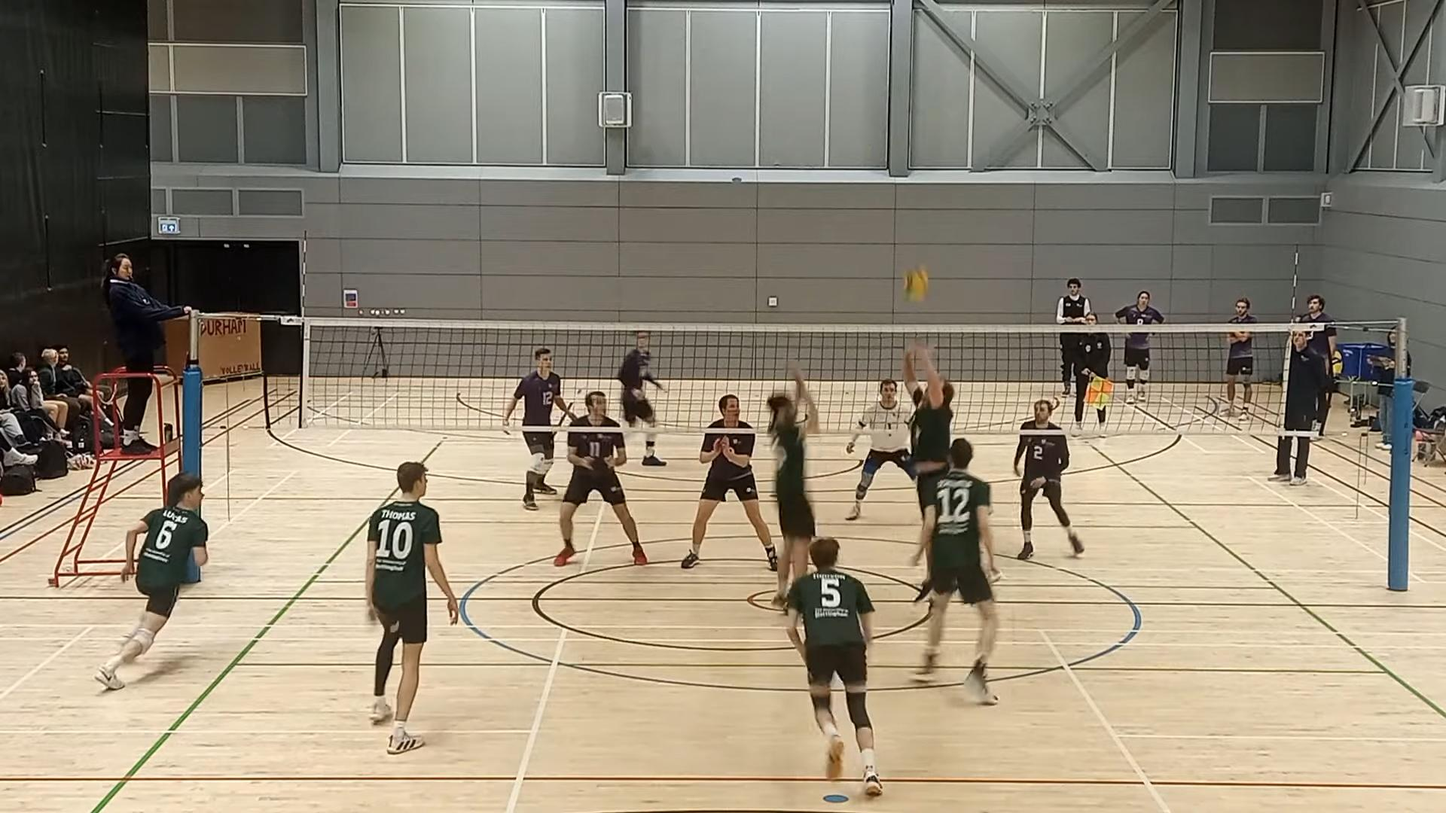Player: (366, 462, 459, 754), (787, 538, 882, 796), (95, 473, 208, 689), (913, 438, 998, 704), (681, 394, 778, 571), (554, 391, 647, 566), (767, 369, 818, 610), (1014, 399, 1083, 559), (846, 379, 916, 520), (618, 330, 665, 464), (503, 348, 575, 426)
Set: (897, 342, 957, 603)
ball: (904, 268, 926, 297)
